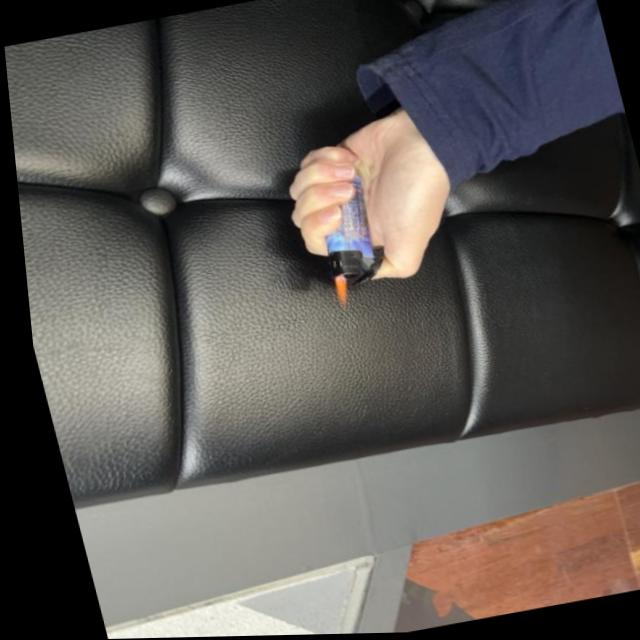Fire: (325, 275, 347, 310)
